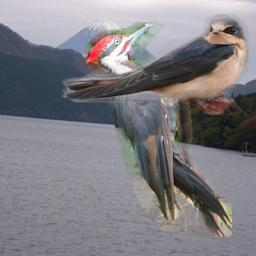Swallow: (62, 13, 249, 115)
Woodpecker: (85, 22, 232, 237)
